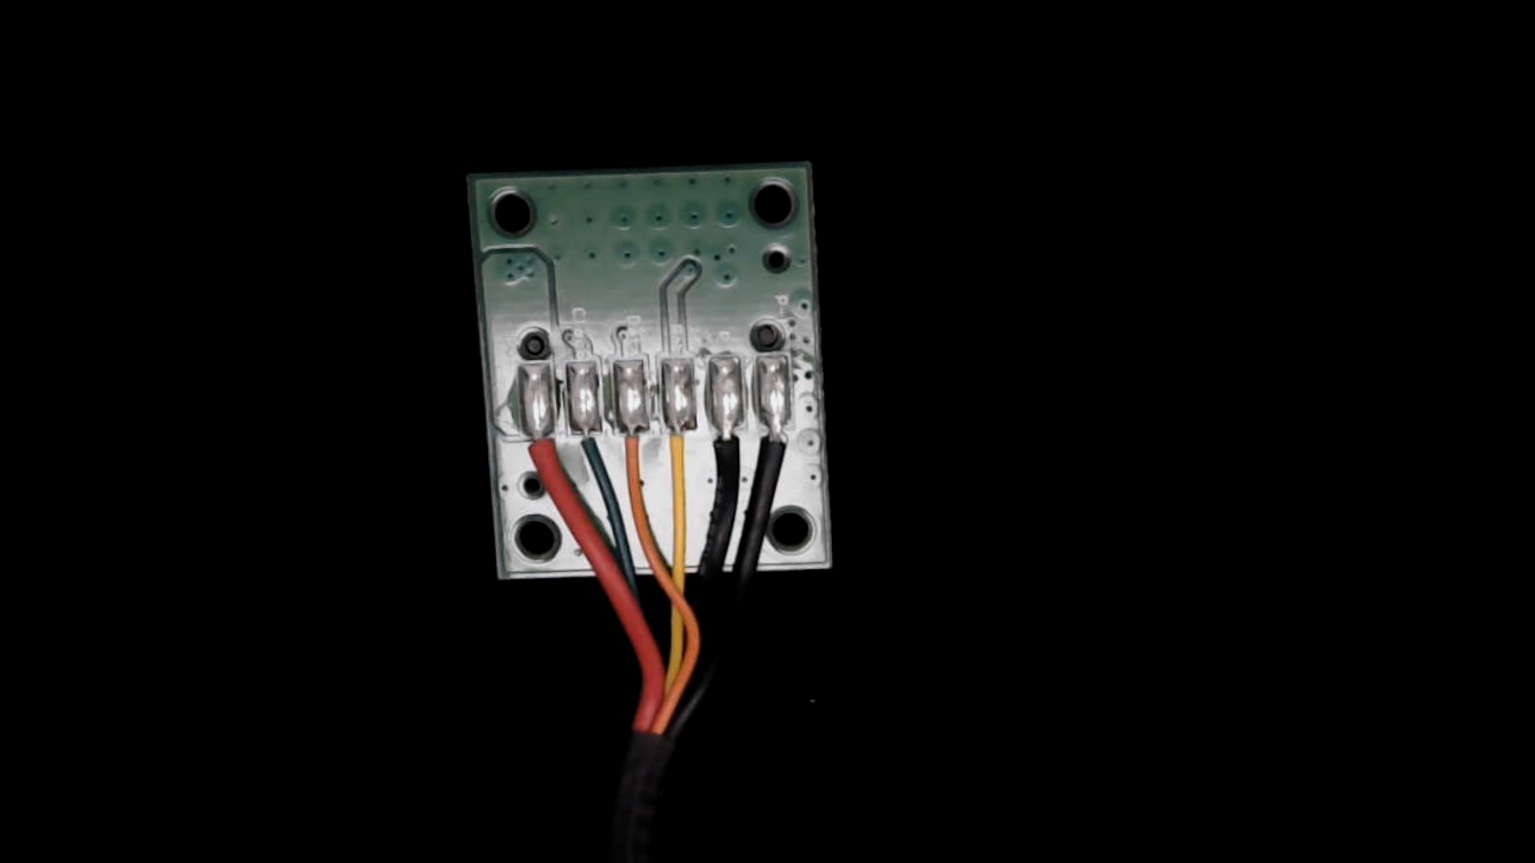Black: (705, 405, 749, 495)
Black1: (757, 400, 800, 484)
Green: (566, 406, 604, 479)
Orange: (615, 410, 654, 496)
Red: (518, 411, 562, 497)
Yellow: (660, 407, 704, 498)
